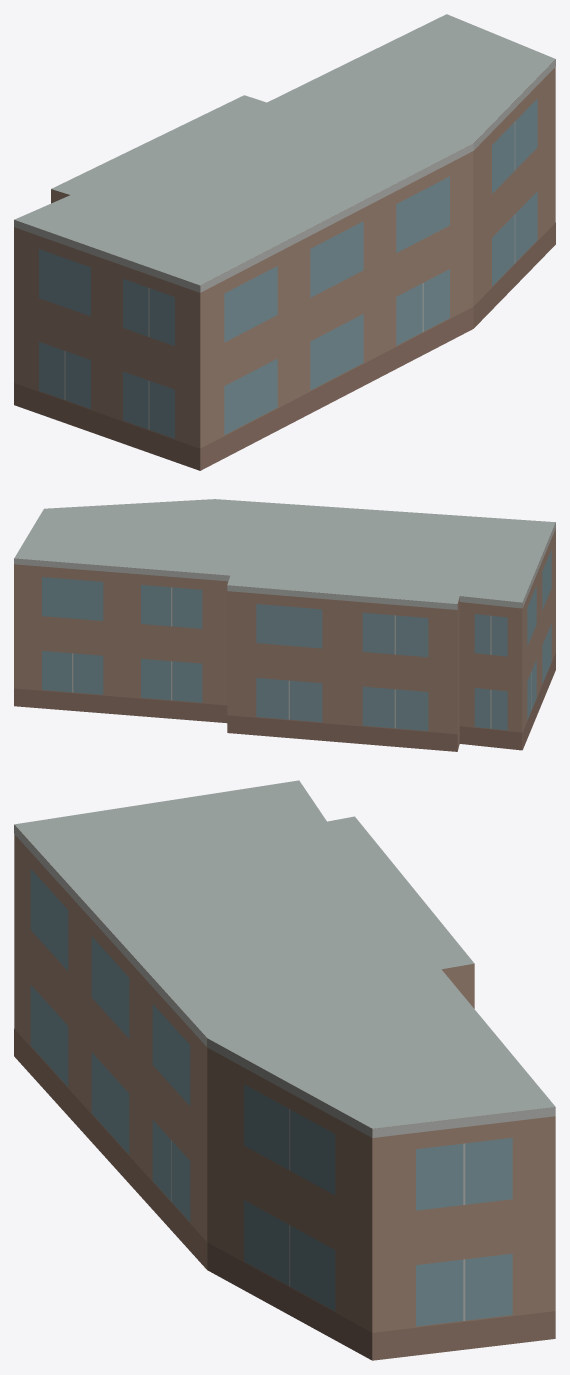
File: survey-upis-32791270.glb
3 views of the same model, one above another, from view 1: azimuth 30°, elevation 25°; view 2: azimuth 150°, elevation 25°; view 3: azimuth 270°, elevation 25° (orthographic). The views are drawn at different scales.
Parts seen in each view (by area): view 1: survey-upis-32791270.tmp; view 2: survey-upis-32791270.tmp; view 3: survey-upis-32791270.tmp.
Part boxes in pixels (<box>): survey-upis-32791270.tmp: <box>14,14,555,470</box>; survey-upis-32791270.tmp: <box>14,499,555,751</box>; survey-upis-32791270.tmp: <box>14,780,555,1360</box>.
Size of the model in its own units: 19.68 by 6.1 by 12.93.
